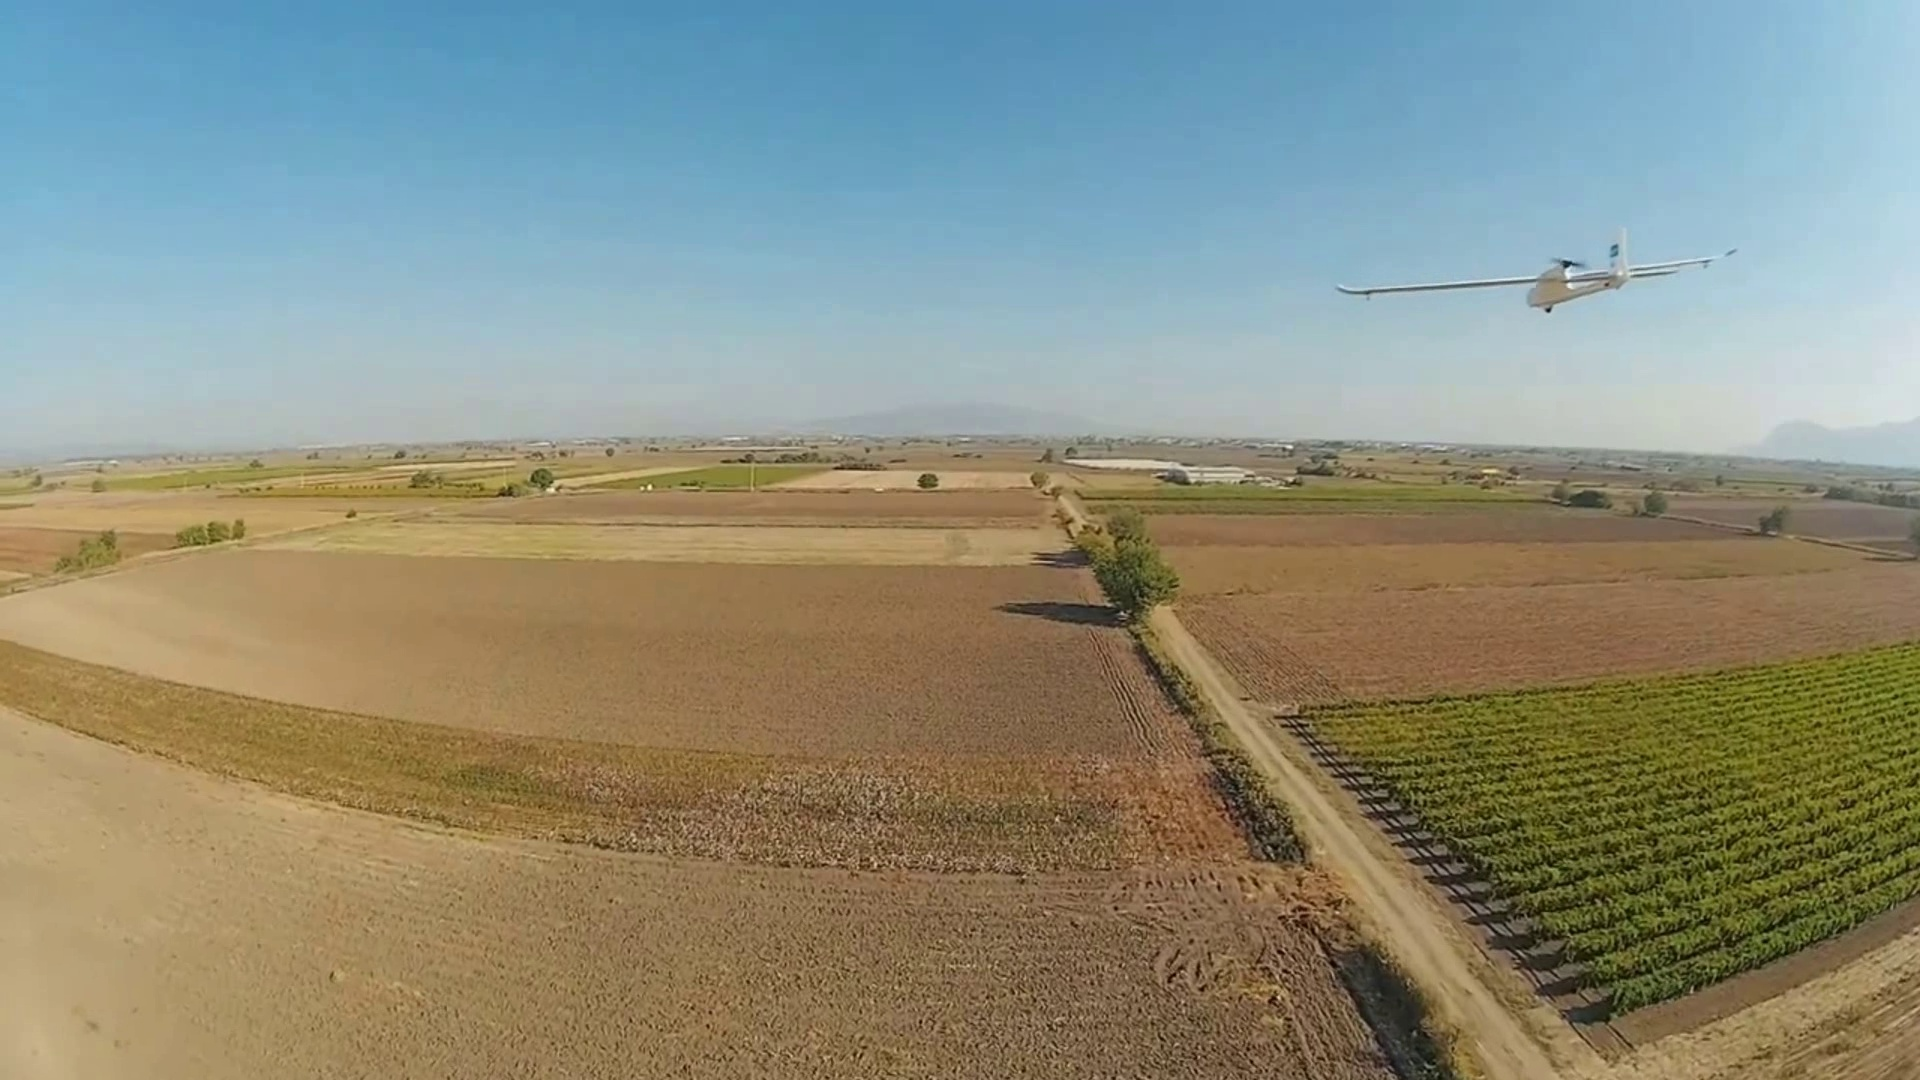airplane: (1335, 228, 1735, 316)
